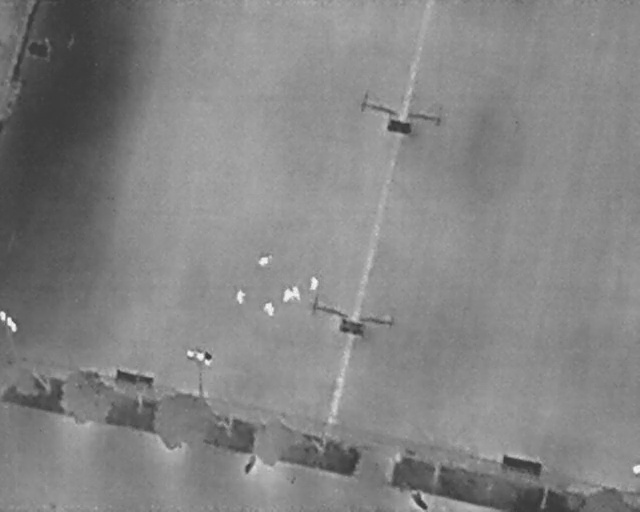Person: (282, 289, 293, 303), (265, 302, 275, 317), (236, 289, 245, 305), (309, 276, 319, 290), (292, 286, 301, 301), (259, 256, 269, 267)
